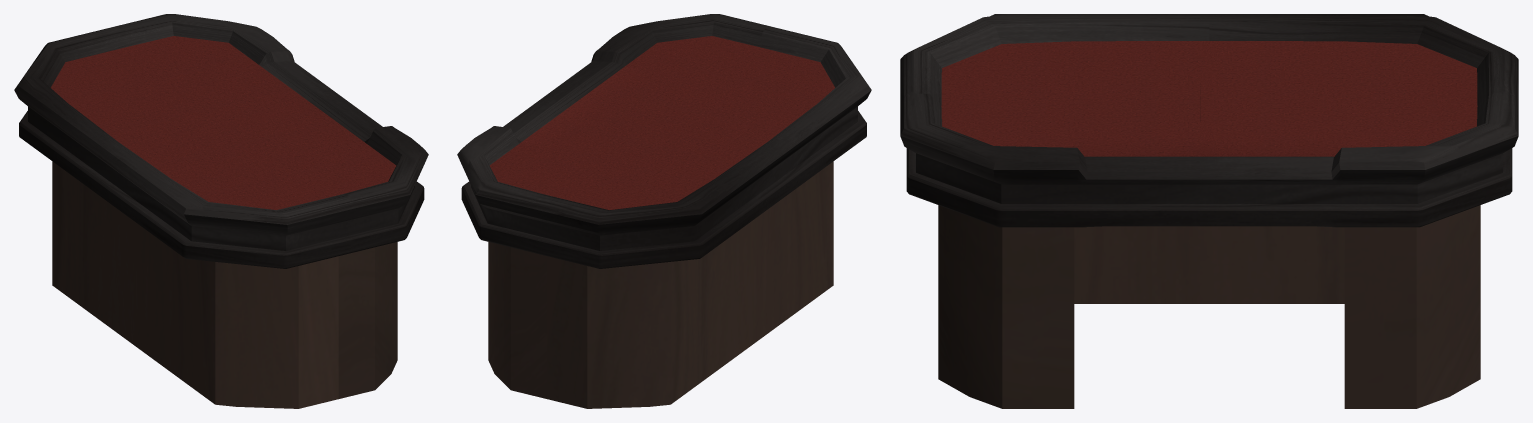
File: table_01.fbx
3 renders of one model, left to right at view 1: azimuth 30°, elevation 25°; view 2: azimuth 150°, elevation 25°; view 3: azimuth 270°, elevation 25°, orthographic. The views are drawn at different scales.
Parts seen in each view (by area): view 1: GameTable; view 2: GameTable; view 3: GameTable.
Part boxes in pixels (x1,y1,x2,y2): GameTable: (14,14,428,408); GameTable: (457,14,871,408); GameTable: (900,14,1518,408).
Bounding box in the file's own units: 1.42 × 1.16 × 2.45.
1 material, 1 textured.
